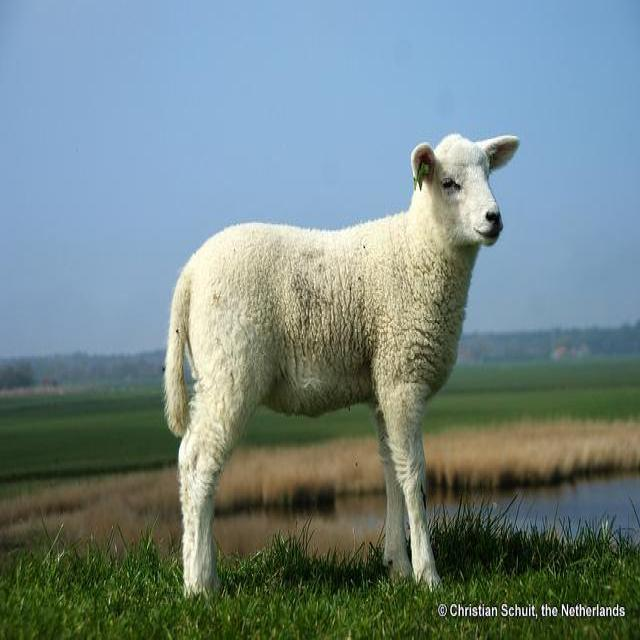Sheep: (160, 133, 525, 603)
